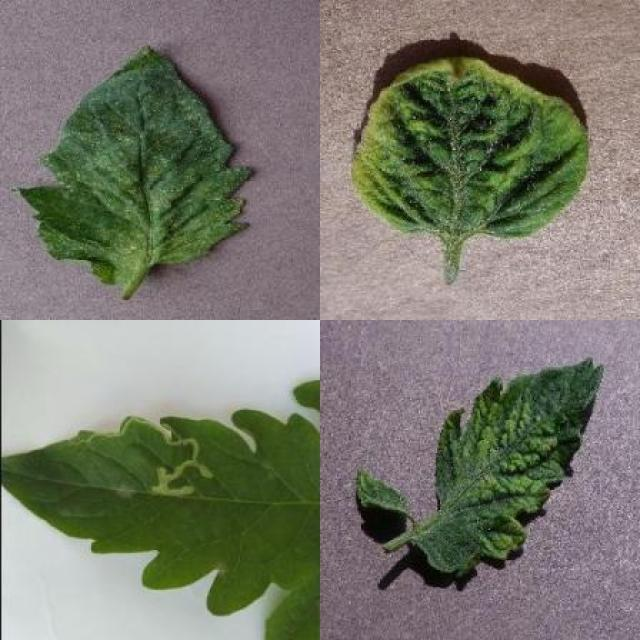Leaf Miner: (0, 408, 320, 615)
Mosaic Virus: (356, 353, 604, 578)
Spider Mites: (17, 44, 253, 286)
Yellow Leaf Curl Virus: (352, 54, 592, 242)
